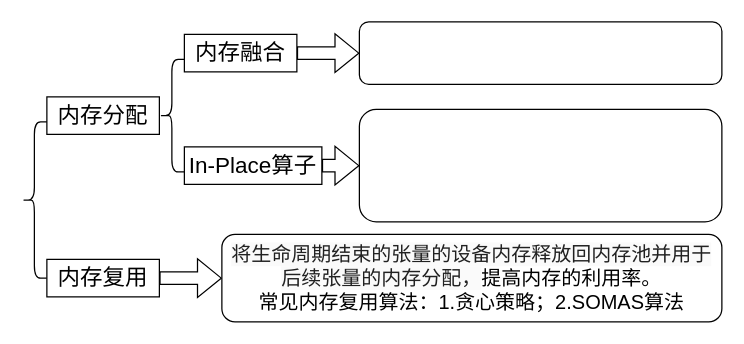
This 744x344 diagram has some shape labels left out. Here are the shapes that lost their labels. From the top down, the box of each, then its label:
(358, 21, 722, 84): 改变内存分配方式，由单个张量离散分配转变为多算子融合的连续内存分配方式
(358, 108, 722, 222): 在内存分配流程中，会为每个算子的输入和输出都分配不同的内存，改变该策略，改为直接为该算子分配输出内存，减少了两次内存拷贝的操作
